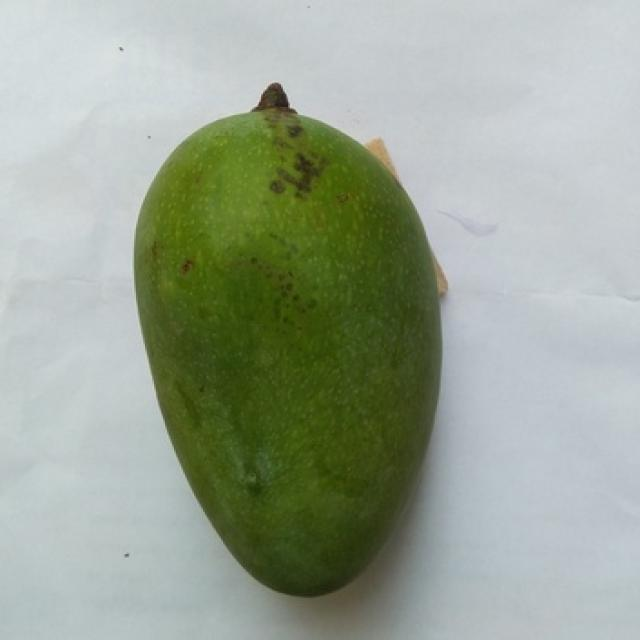Mango: (136, 105, 441, 595)
